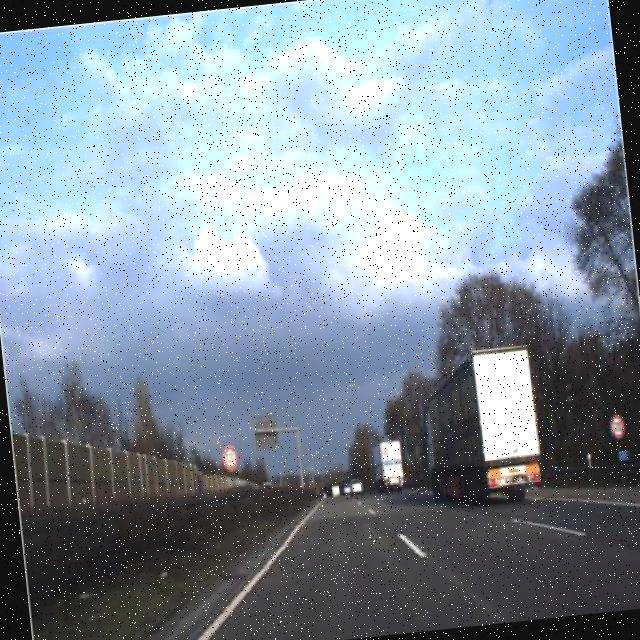Ograniczenie predkosci do 120: (606, 408, 628, 442), (218, 440, 240, 472)
